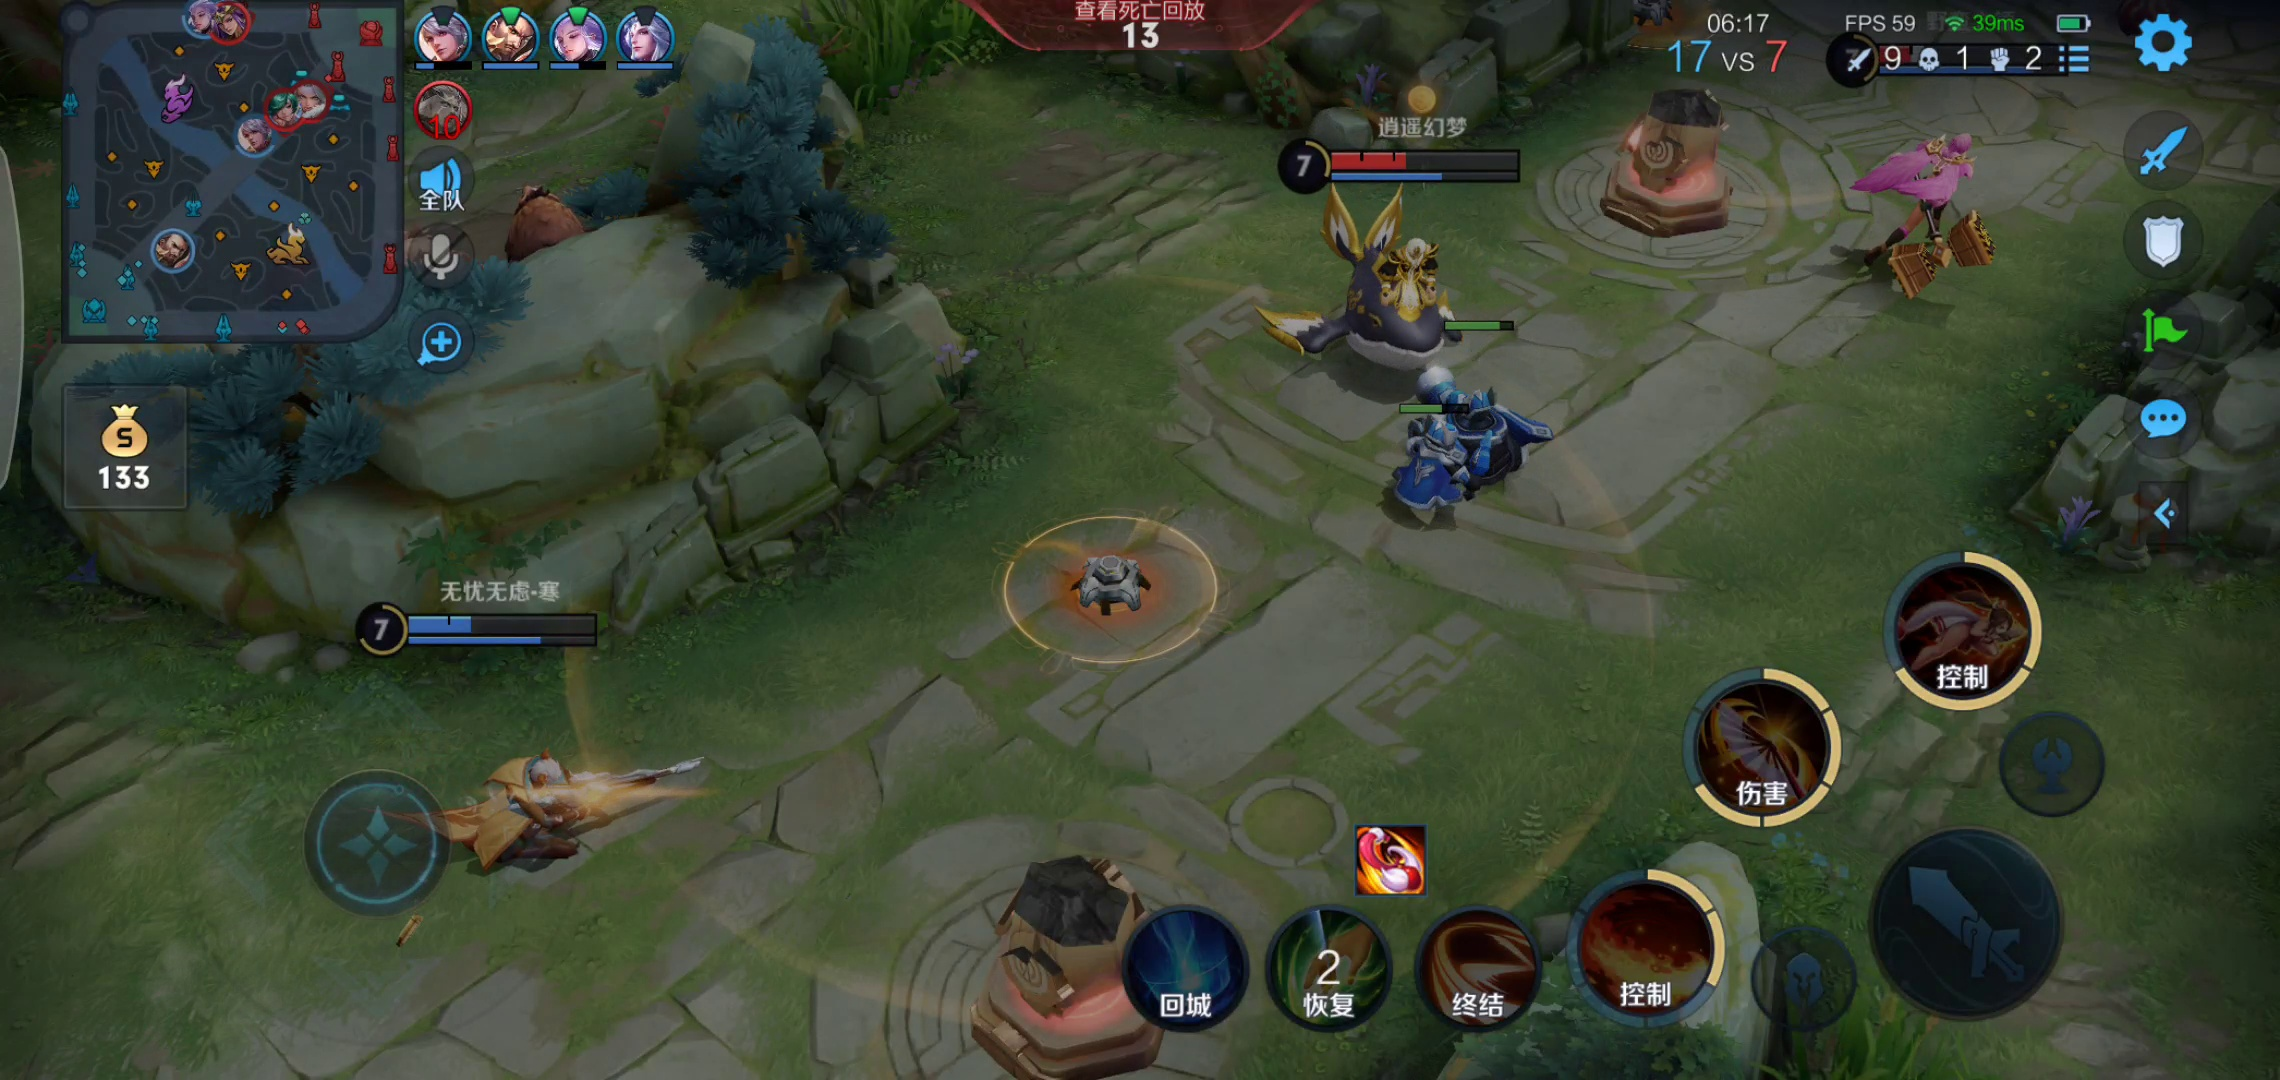grass: (816, 3, 980, 100)
hero: (417, 722, 702, 913), (1291, 193, 1498, 378), (1835, 126, 2004, 299)
soldier: (1415, 369, 1552, 472), (1392, 416, 1466, 528)
tower: (1605, 83, 1741, 235)
wild_monster: (457, 161, 612, 270)
